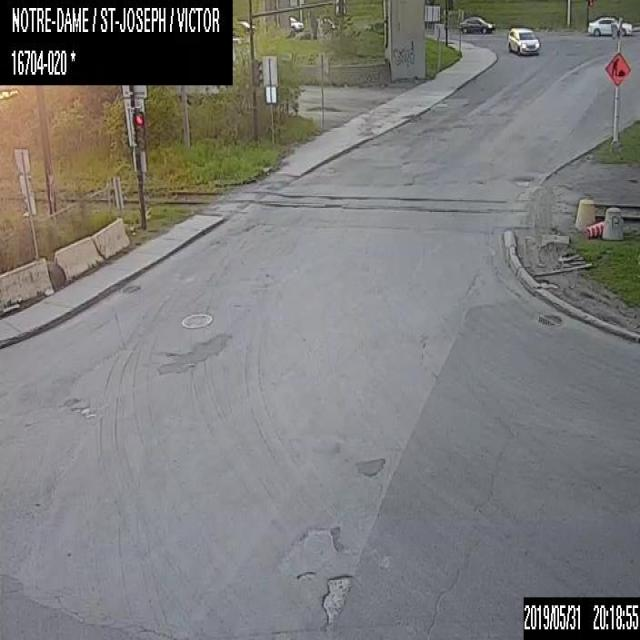construction: (604, 51, 630, 85), (586, 220, 605, 237)
vehicle: (587, 15, 633, 37), (507, 27, 540, 55), (460, 16, 494, 34), (237, 20, 255, 31), (289, 16, 303, 30)
